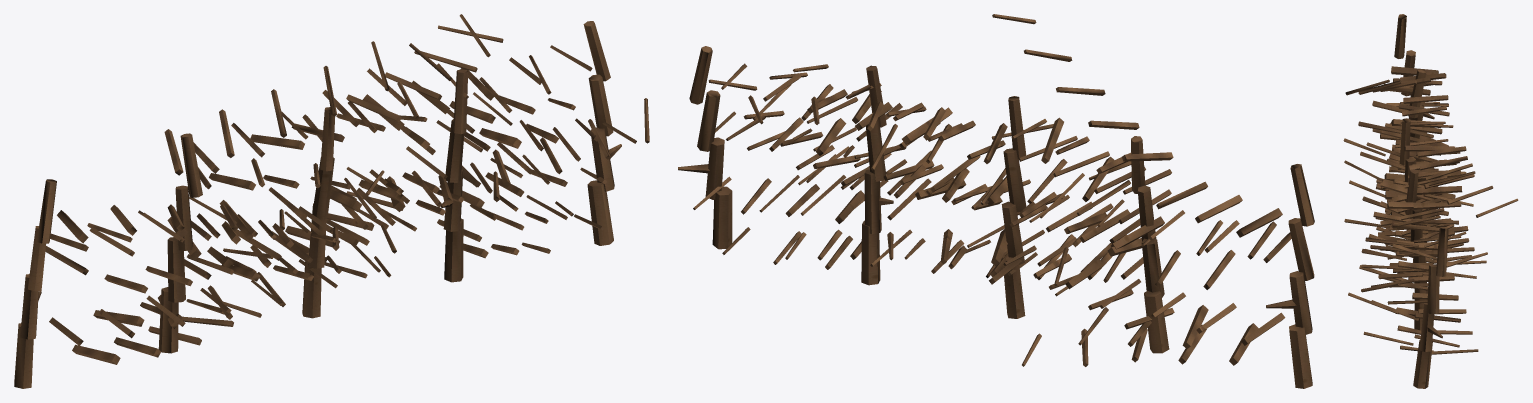
File: brush.glb
3 renders of one model, left to right at view 1: azimuth 30°, elevation 25°; view 2: azimuth 150°, elevation 25°; view 3: azimuth 270°, elevation 25°, orthographic. The views are drawn at different scales.
Visible parts, largest first — view 1: brush; view 2: brush; view 3: brush.
Boxes of the visible parts, x1,y1,x2,y2 form: brush: [14, 14, 649, 388]; brush: [678, 14, 1314, 388]; brush: [1343, 14, 1518, 388].
Bounding box in the file's own units: 4.32 × 1.89 × 1.37.
1 material, 1 textured.
